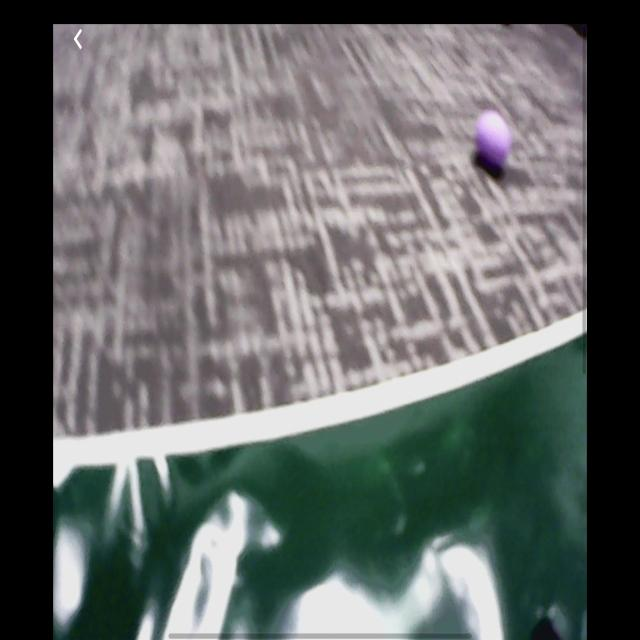ball: (474, 113, 511, 170)
